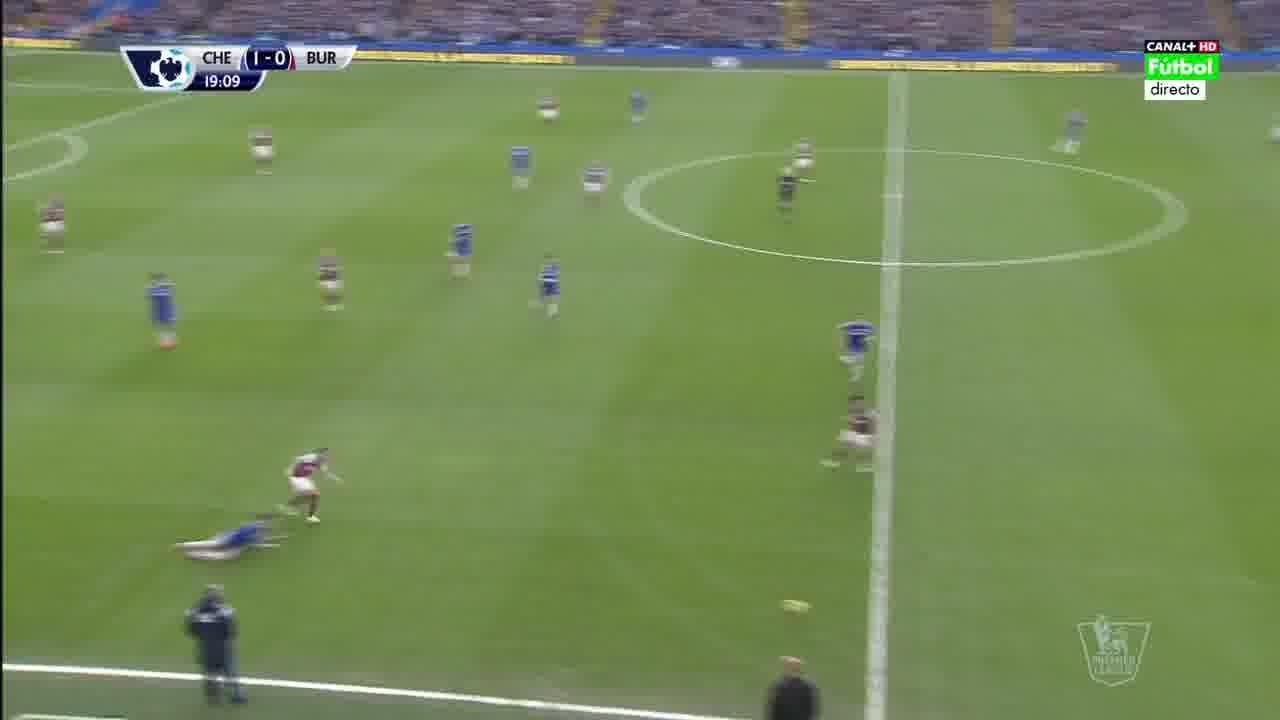football: (784, 600, 814, 617)
